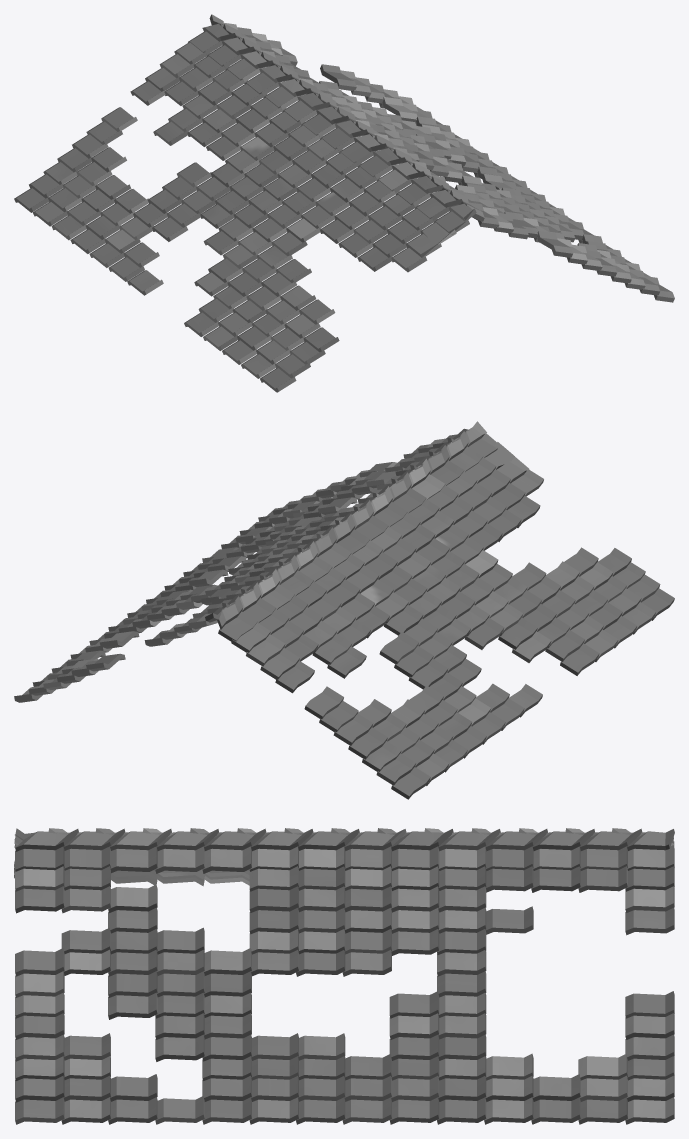
The model's file is TelhadoDestruidoVer1.fbx.
3 views of the same model, one above another, from view 1: azimuth 30°, elevation 25°; view 2: azimuth 150°, elevation 25°; view 3: azimuth 270°, elevation 25° (orthographic). The views are drawn at different scales.
Visible parts, largest first — view 1: TelhadoQuebradoVer1; view 2: TelhadoQuebradoVer1; view 3: TelhadoQuebradoVer1.
Part boxes in pixels (x1,y1,x2,y2): TelhadoQuebradoVer1: (14, 14, 674, 392); TelhadoQuebradoVer1: (14, 421, 674, 799); TelhadoQuebradoVer1: (14, 828, 674, 1124).
Size of the model in its own units: 960 by 327 by 1107.
